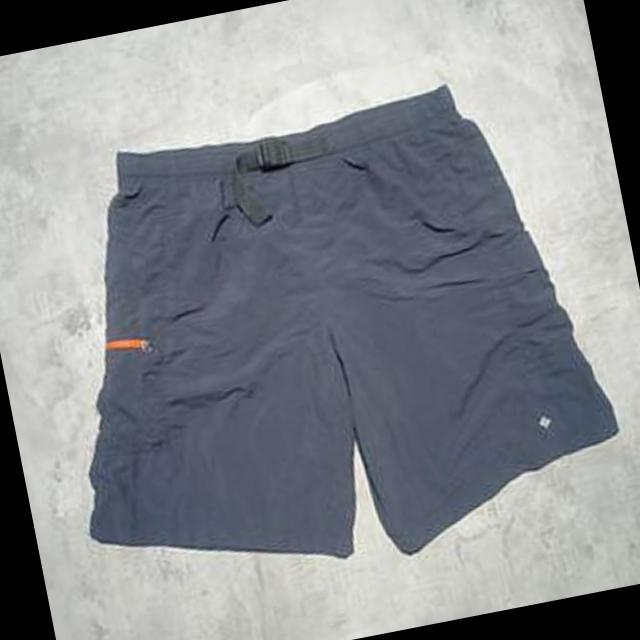SHORT: (13, 48, 640, 617)
